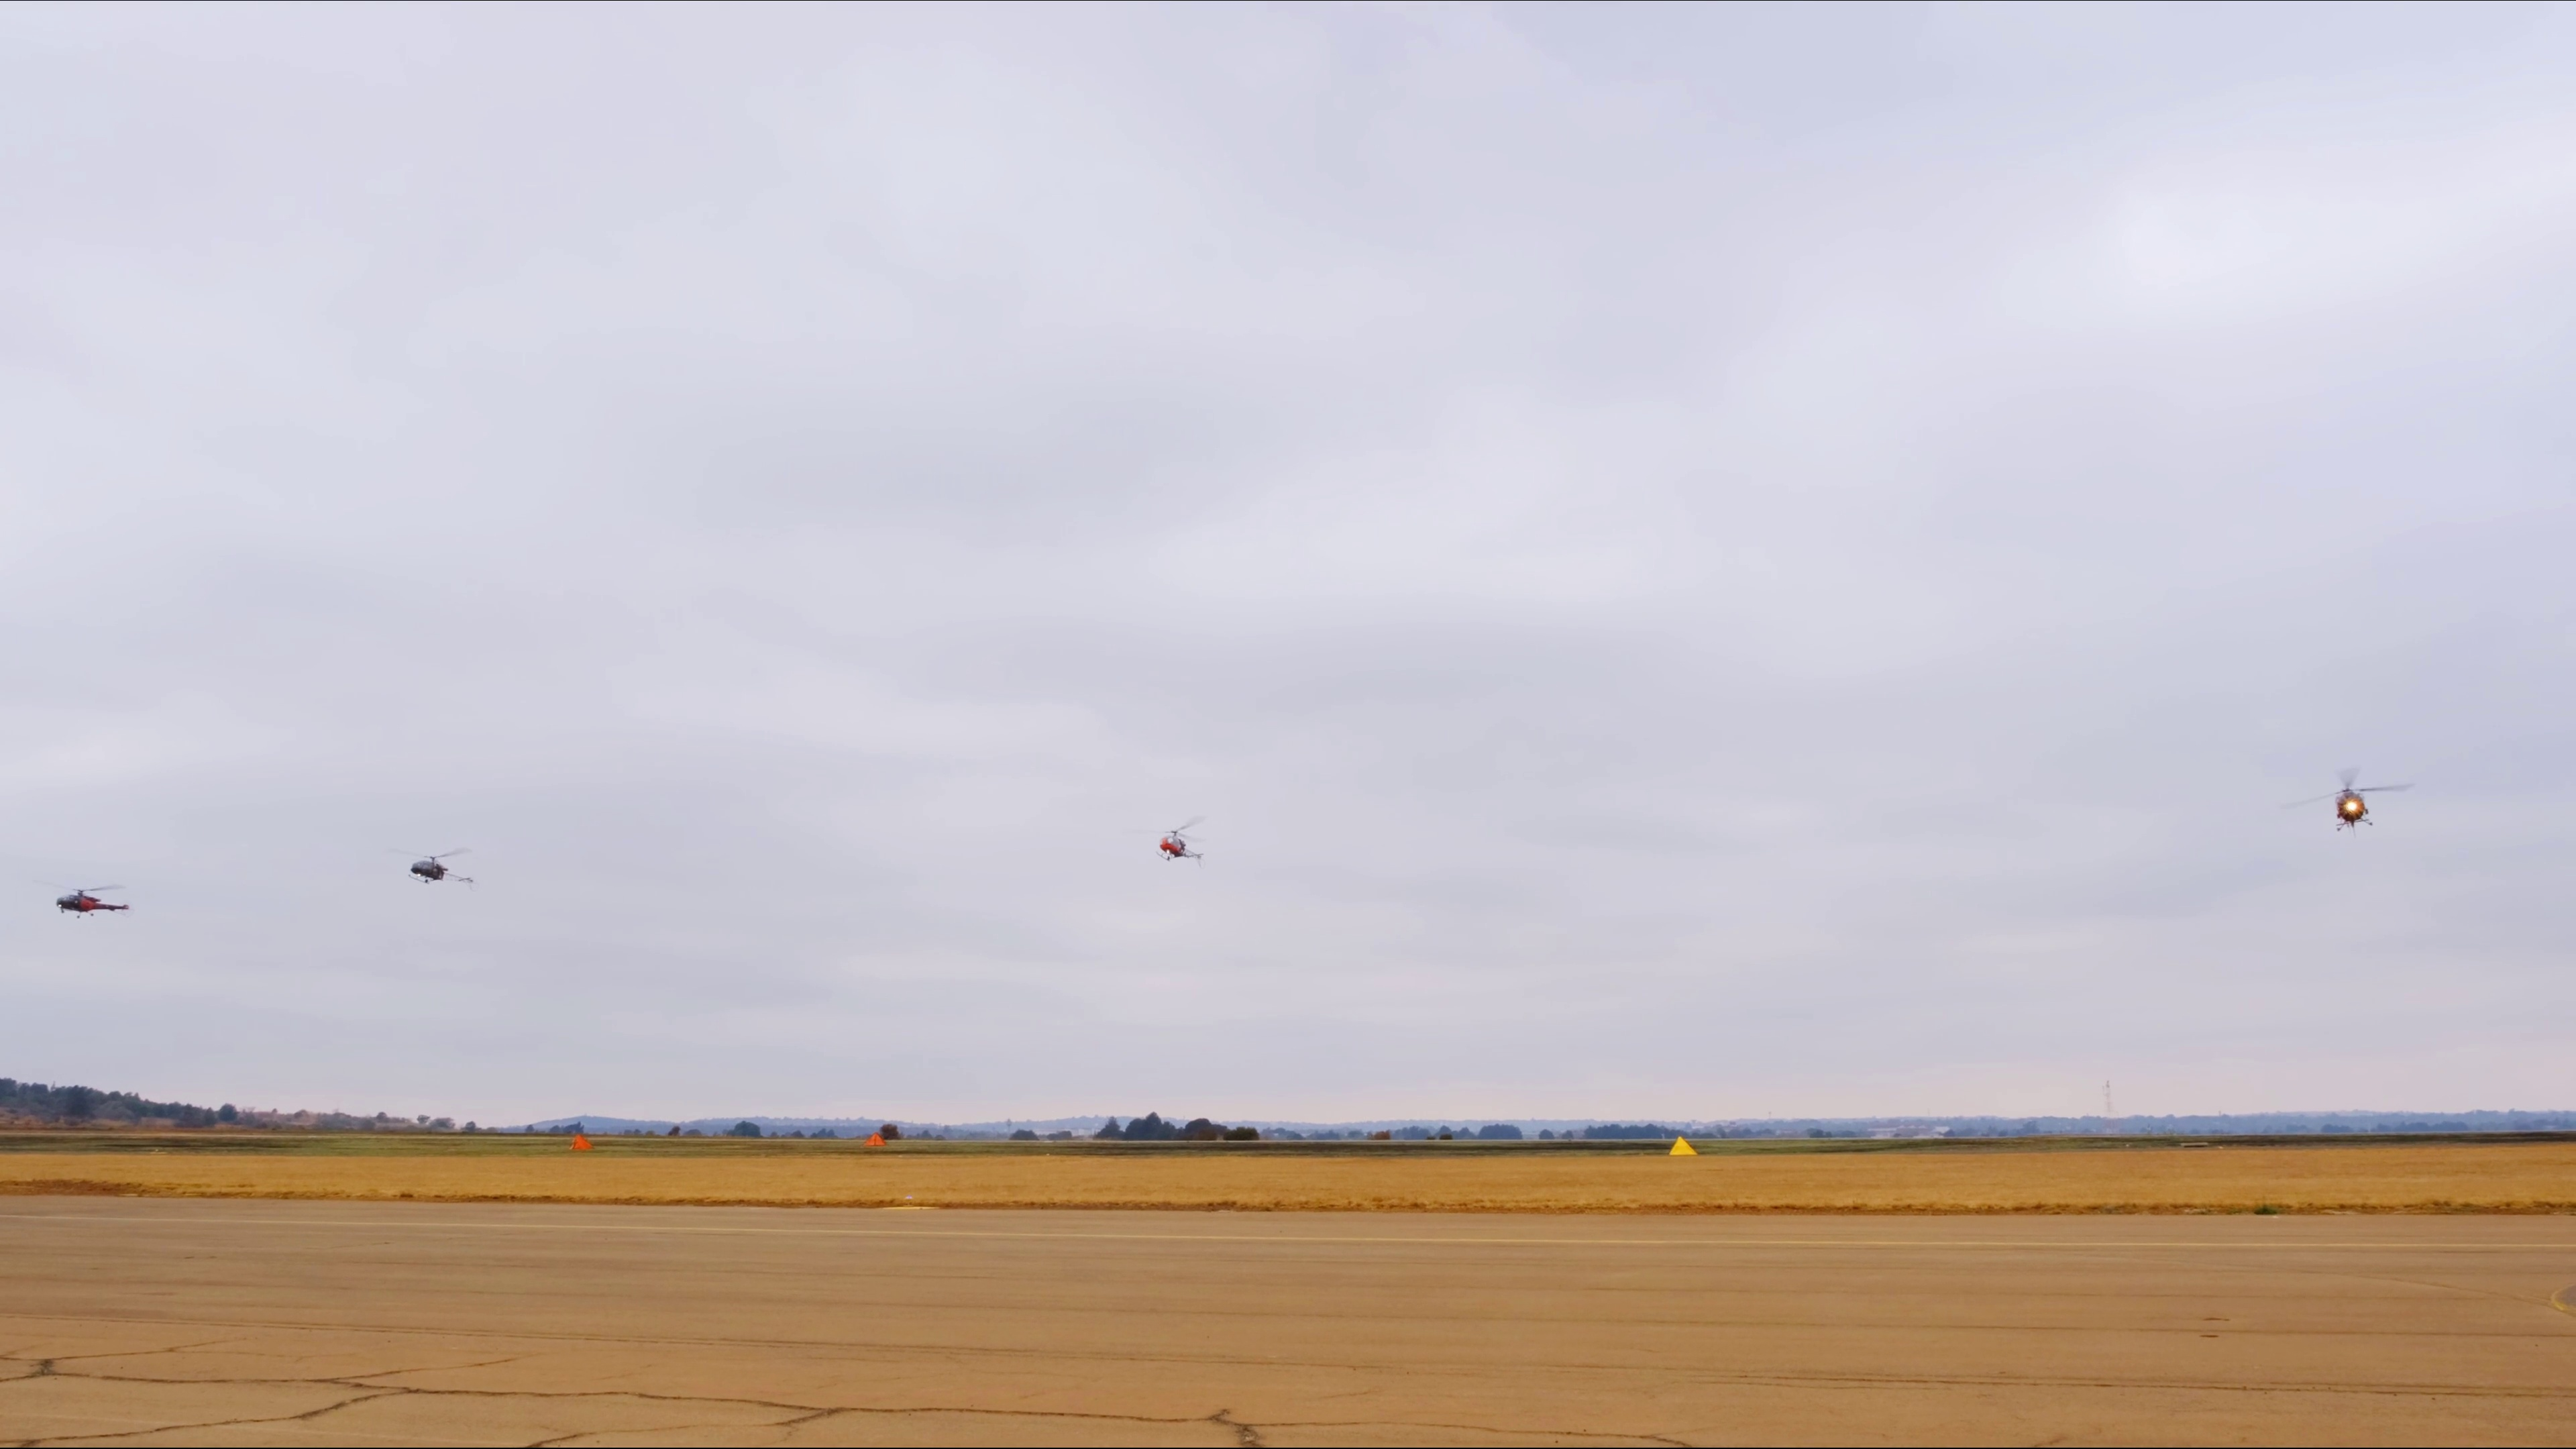heli: (2295, 768, 2415, 828), (55, 879, 134, 925), (1152, 814, 1207, 865), (405, 849, 472, 886)
